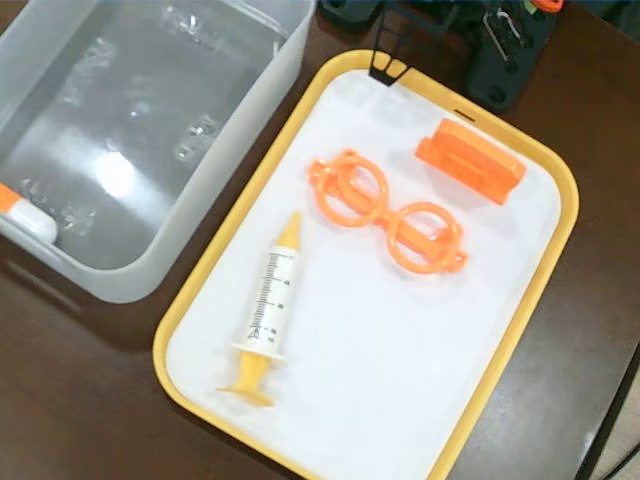pill: (0, 177, 62, 246)
syringe: (215, 210, 307, 413)
